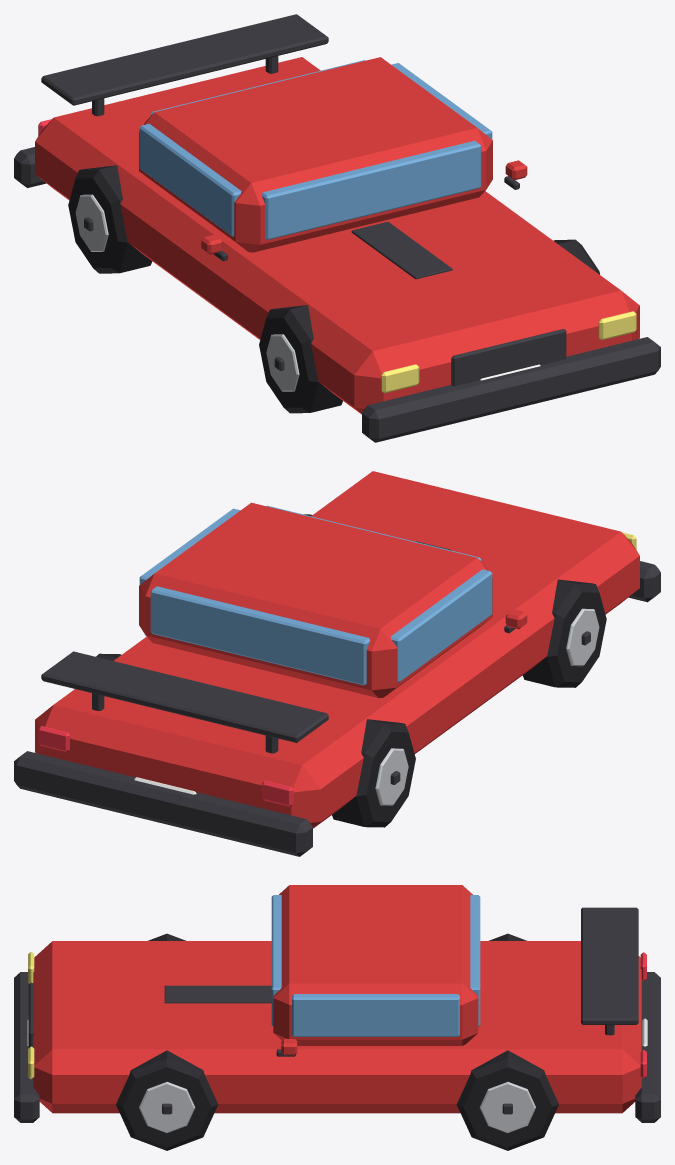
The model's file is RedSportsCar.fbx.
3 views of the same model, one above another, from view 1: azimuth 30°, elevation 25°; view 2: azimuth 150°, elevation 25°; view 3: azimuth 270°, elevation 25° (orthographic). The views are drawn at different scales.
Parts seen in each view (by area): view 1: RedSportsCar, RedSportsCar_WheelBR, RedSportsCar_WheelFR; view 2: RedSportsCar, RedSportsCar_WheelBR, RedSportsCar_WheelFR; view 3: RedSportsCar, RedSportsCar_WheelBL, RedSportsCar_WheelFL.
Boxes of the visible parts, x1,y1,x2,y2 form: RedSportsCar: [14, 14, 660, 442]; RedSportsCar_WheelBR: [68, 165, 152, 273]; RedSportsCar_WheelFR: [259, 305, 342, 413]; RedSportsCar: [14, 471, 660, 856]; RedSportsCar_WheelBR: [332, 719, 415, 827]; RedSportsCar_WheelFR: [522, 579, 606, 687]; RedSportsCar: [14, 885, 660, 1122]; RedSportsCar_WheelBL: [456, 1050, 558, 1150]; RedSportsCar_WheelFL: [116, 1050, 218, 1150].
Size of the model in its own units: 5.15 by 2.66 by 10.1.
Materials: 1 (1 with a texture image).
